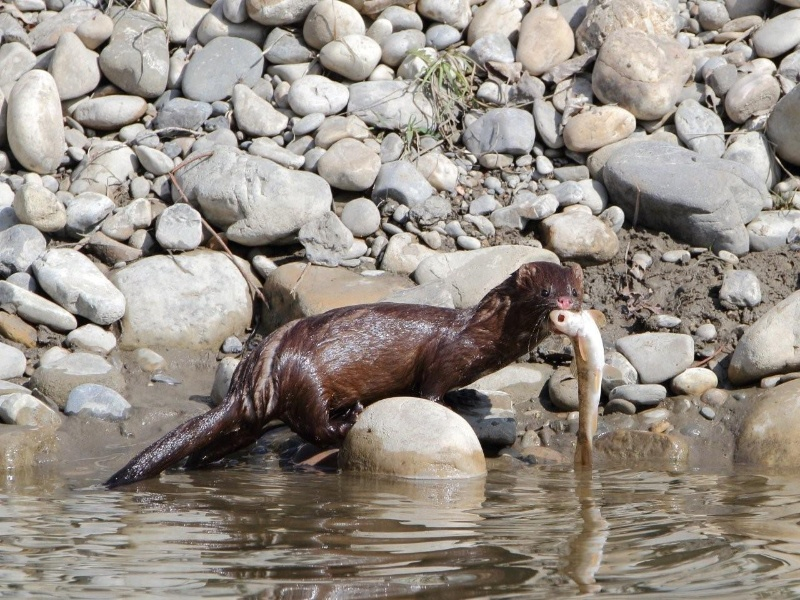minkish: (105, 261, 578, 490)
